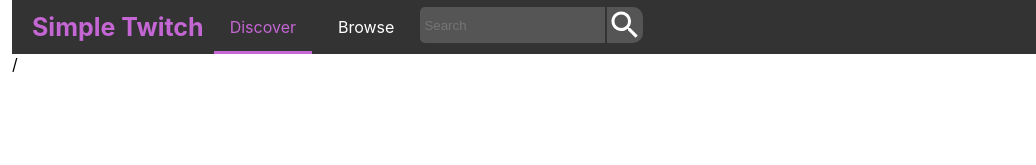
Test case: NavBarCont › navigates to a channel result
Type "min" into the field with placeholder "Search" at (513, 25), box [420,7,605,43]
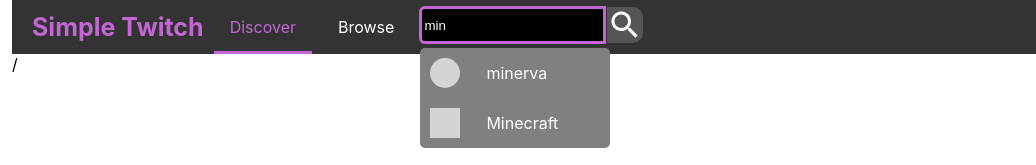
Click the link "minerva" at (517, 73), box [486,63,547,83]
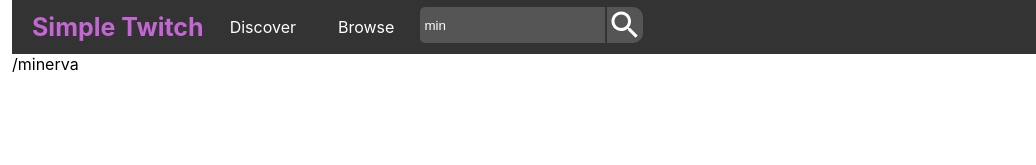
Expected: the text with test id "location" reads "/minerva", [12,54,79,74]
